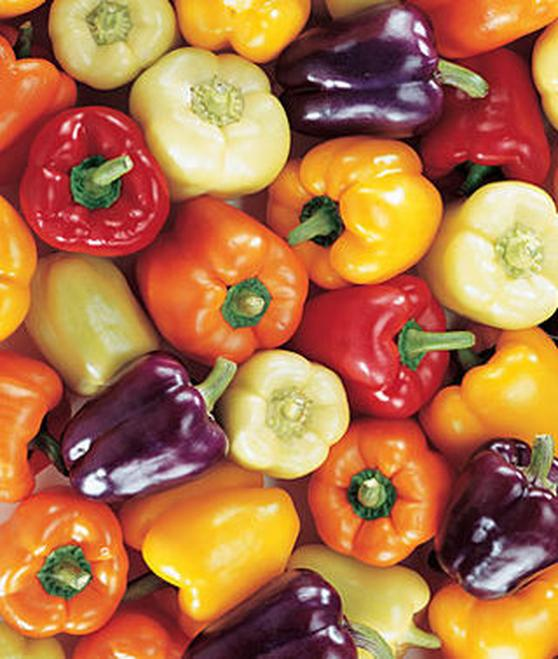pepper: (290, 280, 458, 409), (22, 110, 169, 256)
